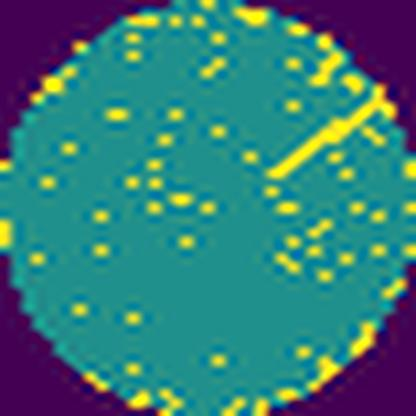Scratch: (263, 89, 387, 184)
